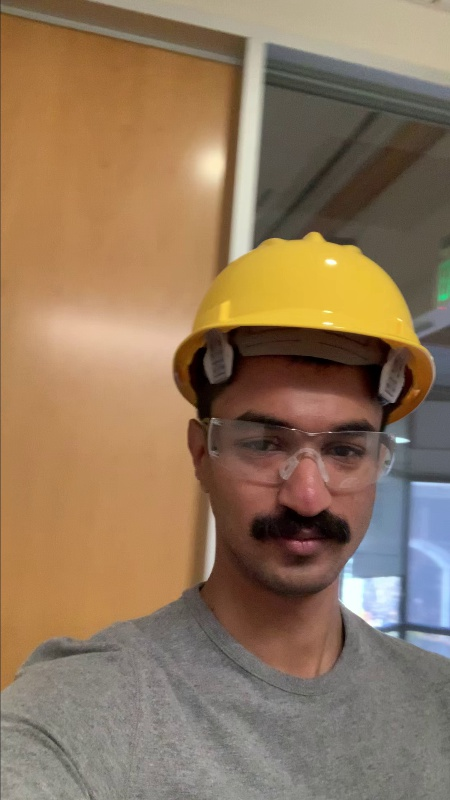glasses: (204, 422, 398, 489)
helmet: (197, 230, 414, 341)
